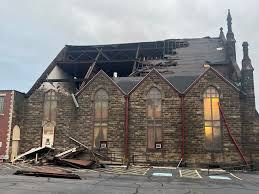sagging_roof: (42, 38, 193, 88)
